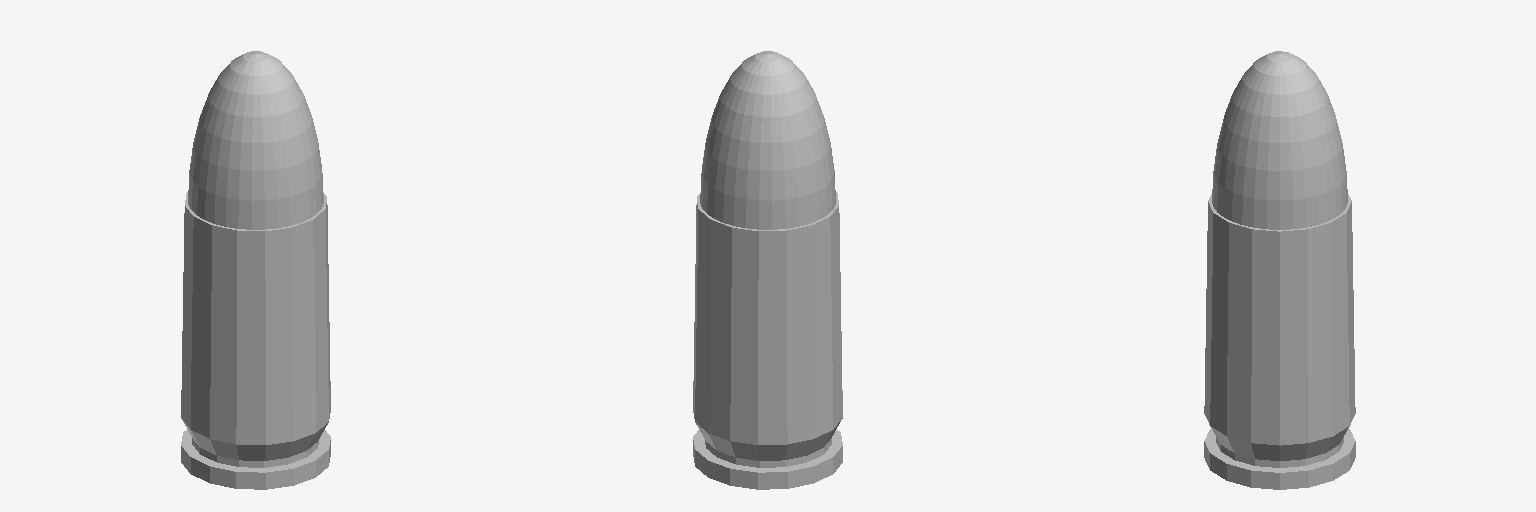
Rendered from gun.obj.
3 renders of one model, left to right at view 1: azimuth 30°, elevation 25°; view 2: azimuth 150°, elevation 25°; view 3: azimuth 270°, elevation 25°, orthographic.
Parts seen in each view (by area): view 1: 9Mm_Bullet_Replica; view 2: 9Mm_Bullet_Replica; view 3: 9Mm_Bullet_Replica.
Boxes of the visible parts, box(x1,y1,x2,y2) form: 9Mm_Bullet_Replica: box(181, 51, 330, 489); 9Mm_Bullet_Replica: box(693, 51, 842, 489); 9Mm_Bullet_Replica: box(1204, 51, 1355, 489).
Size of the model in its own units: 1 by 2.95 by 1.